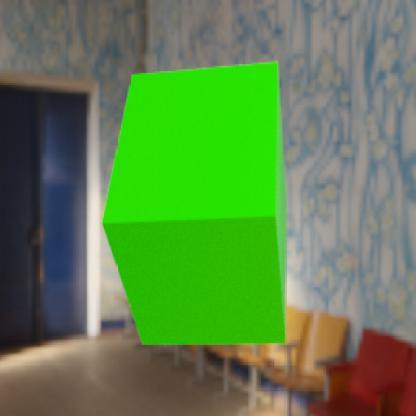green_cube: (100, 61, 286, 345)
